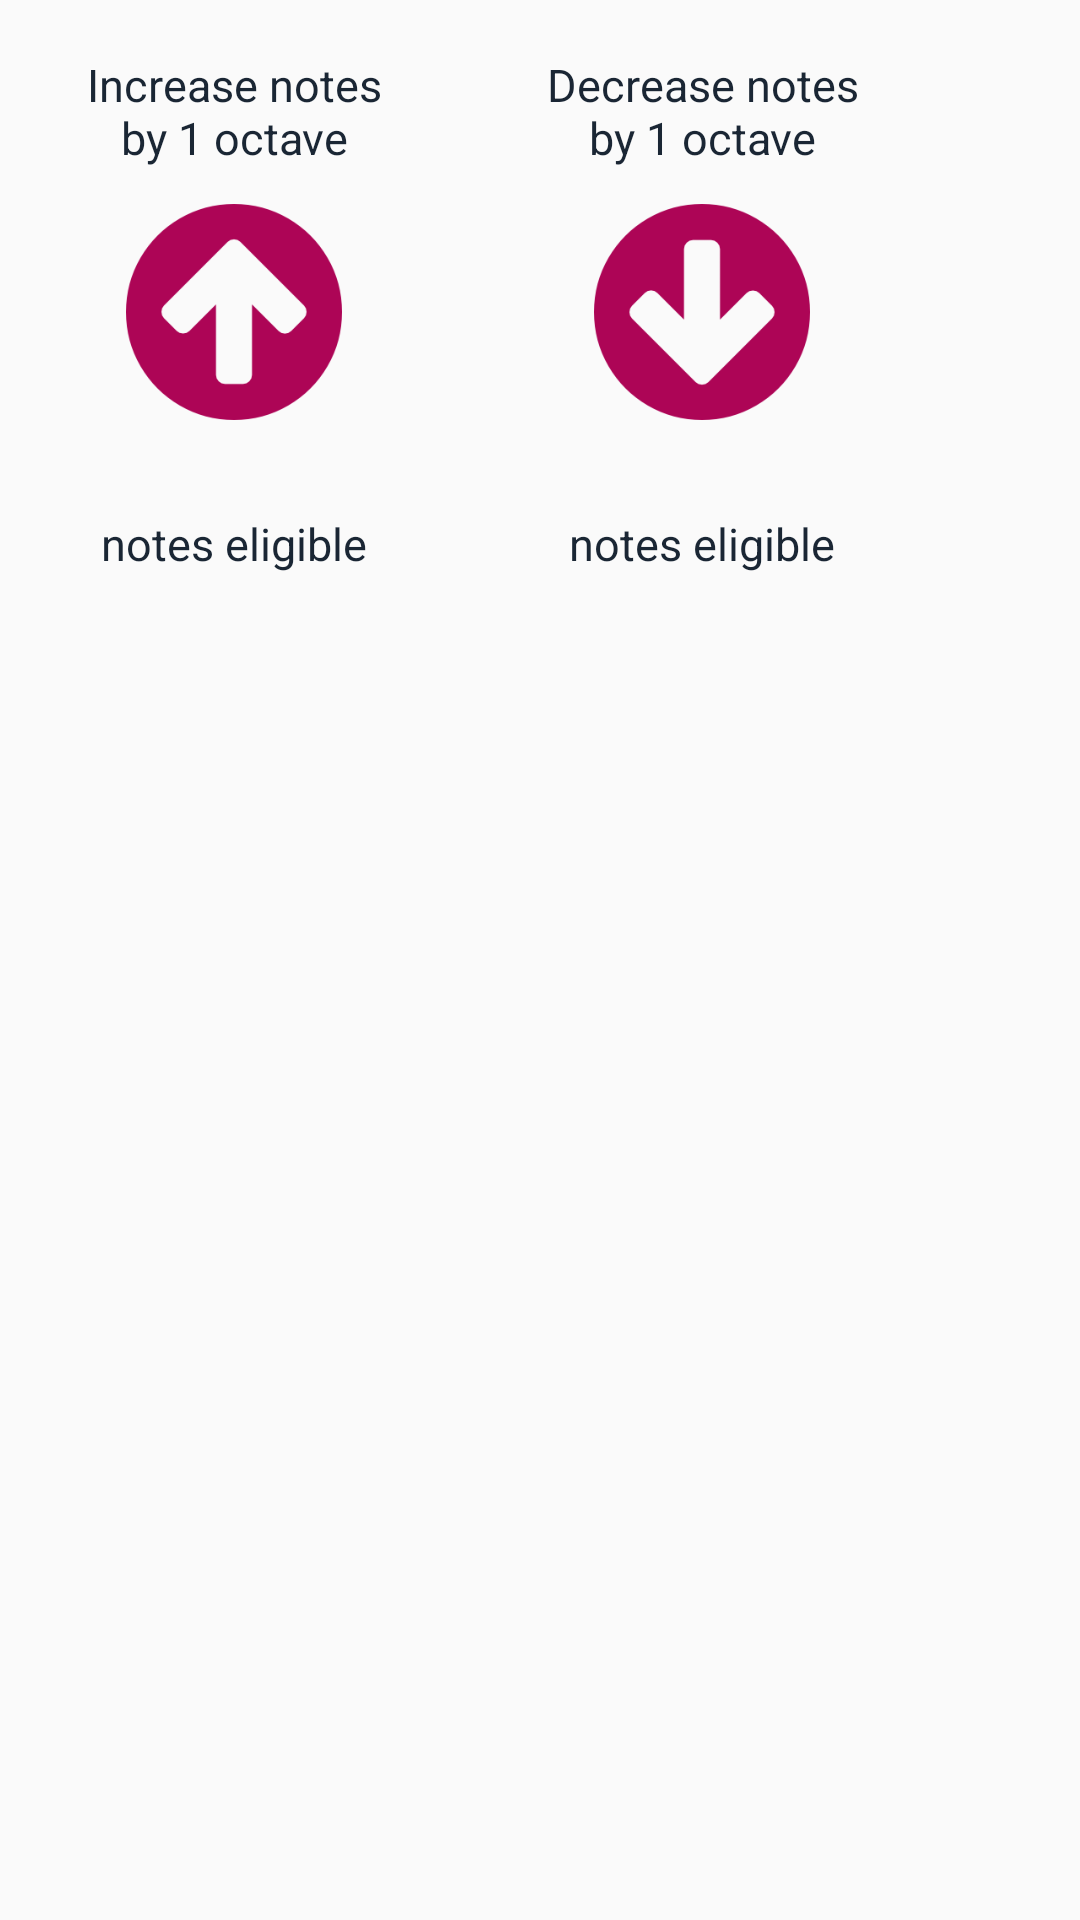

Where to tap for icons on this 1080*1920 app screen, as (x,y):
arrow down: (702,312)
arrow up: (234,312)
